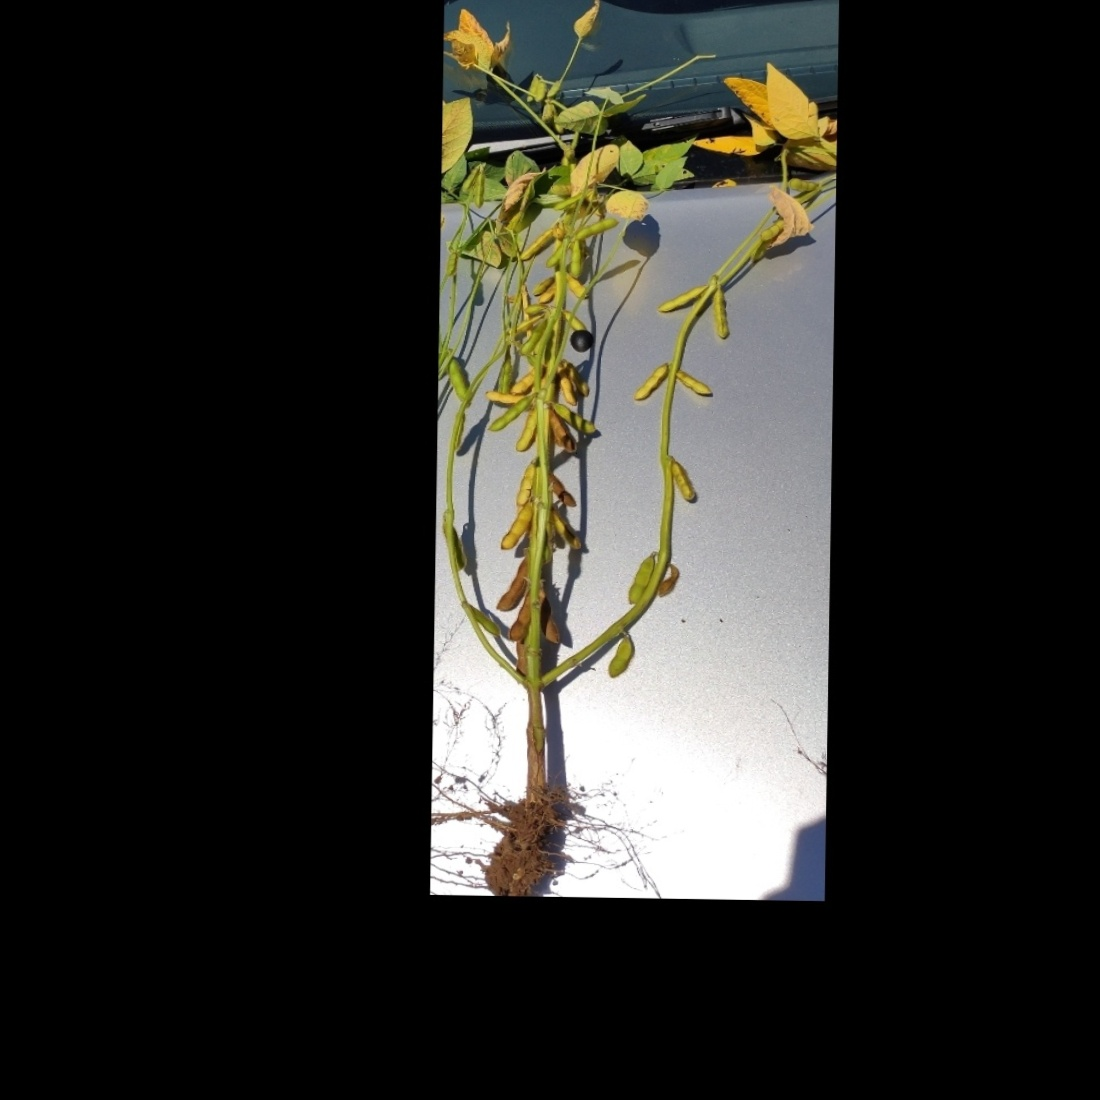pod: (487, 388, 541, 434), (496, 551, 532, 613), (654, 280, 714, 315), (550, 400, 601, 435), (516, 222, 555, 263), (625, 551, 654, 606), (502, 500, 533, 550), (632, 359, 670, 398), (709, 285, 735, 341), (669, 457, 699, 505), (518, 315, 549, 360), (571, 215, 621, 242), (606, 633, 634, 681), (509, 586, 531, 644), (515, 406, 540, 454), (469, 601, 502, 639), (447, 357, 470, 402), (515, 459, 535, 509), (554, 364, 577, 406), (676, 371, 713, 397), (510, 366, 542, 396), (786, 174, 820, 195), (567, 240, 583, 280), (757, 221, 786, 243), (472, 172, 489, 210), (445, 250, 456, 280)
soy: (434, 18, 820, 873)
